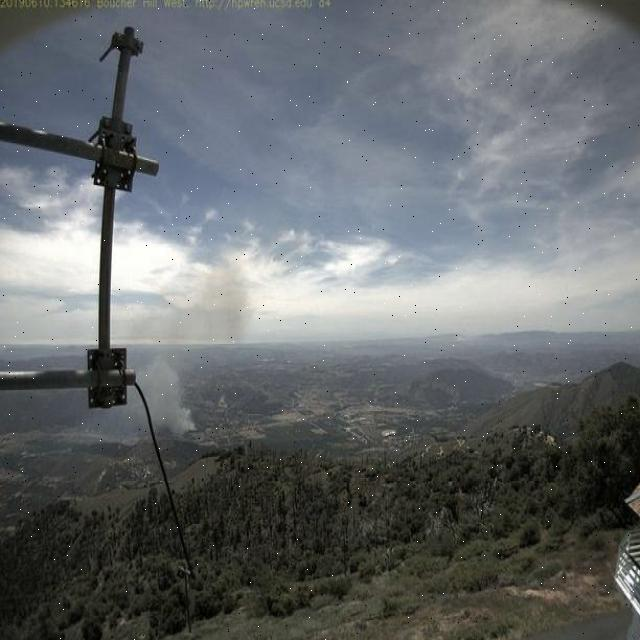smoke: (118, 241, 253, 440)
